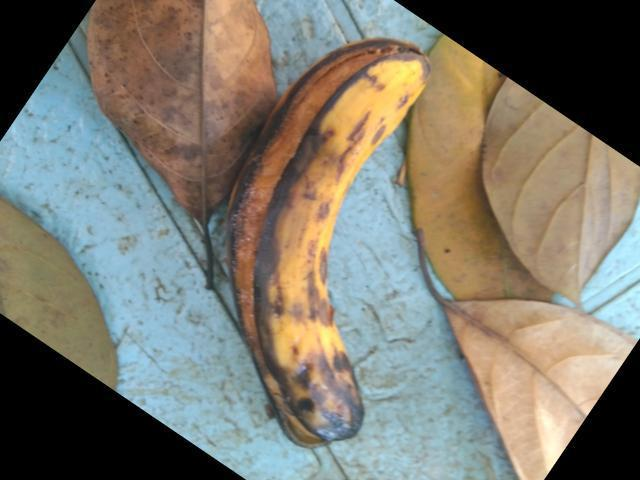rotten: (194, 42, 438, 466)
